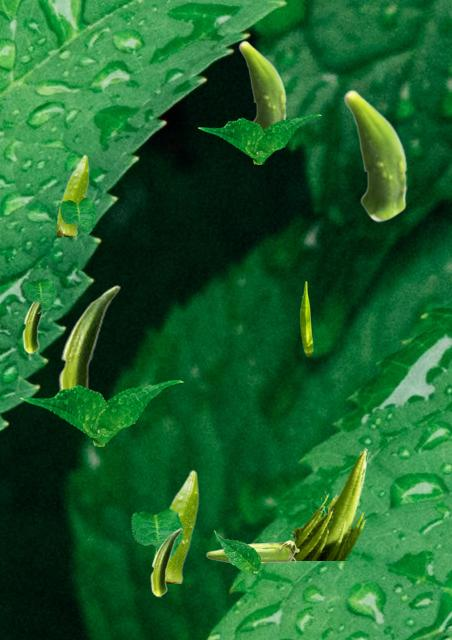okra: (289, 447, 369, 559), (343, 89, 407, 221), (58, 285, 119, 389), (154, 469, 198, 582), (238, 40, 286, 128), (57, 154, 88, 235), (150, 528, 181, 596), (206, 540, 298, 562), (22, 302, 43, 353), (300, 281, 312, 355)
